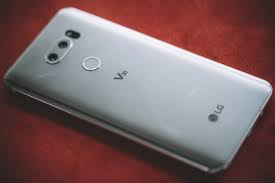lg: (3, 2, 272, 173)
